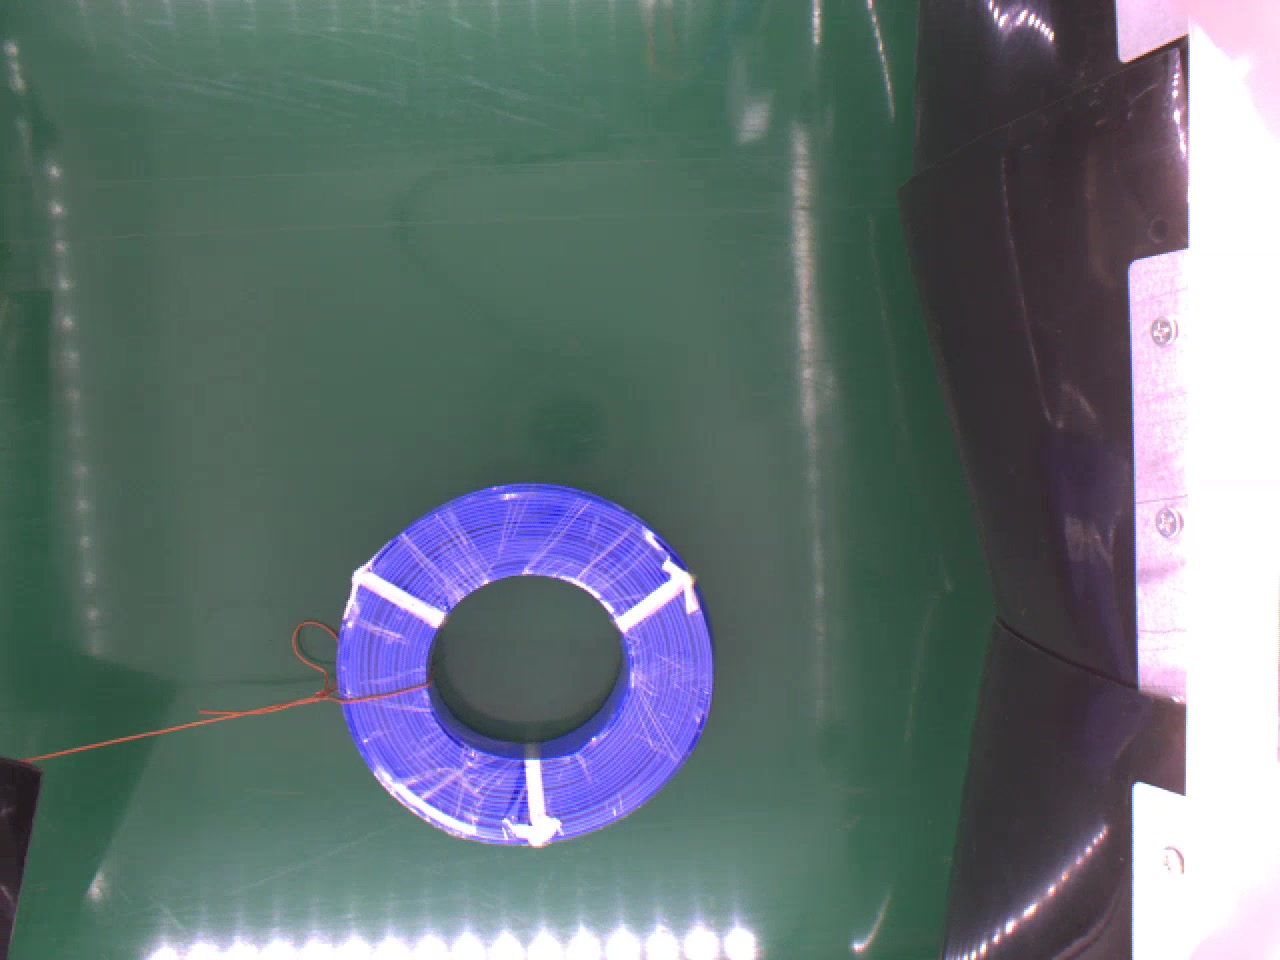blue: (325, 477, 713, 847)
